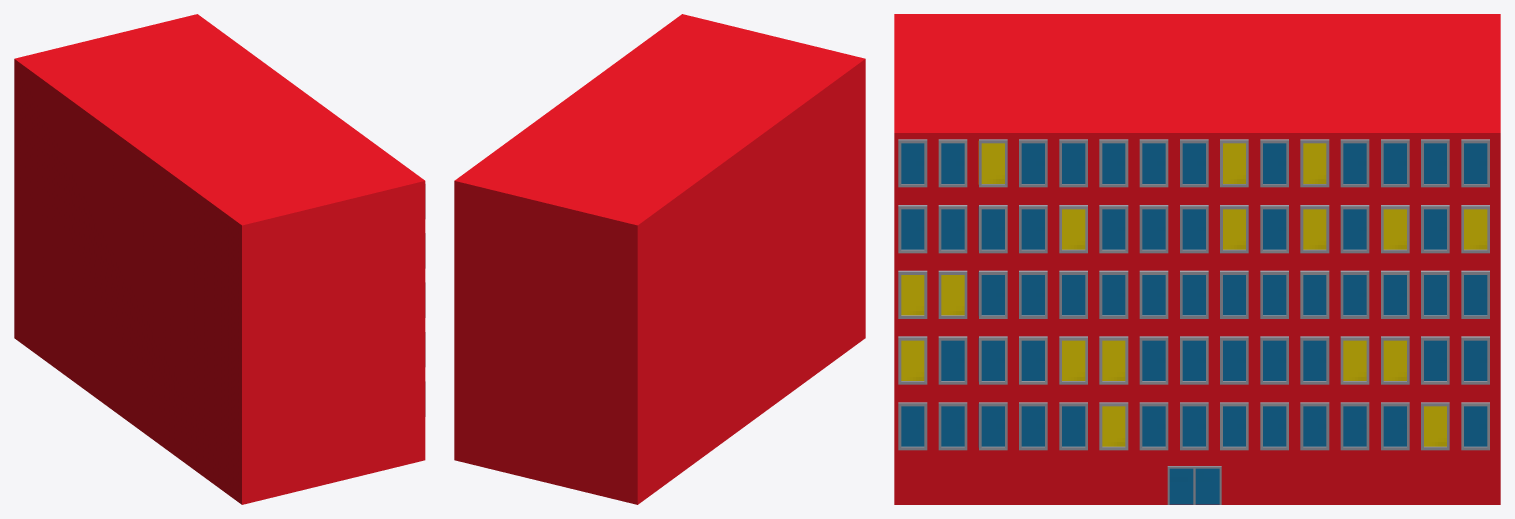
The model's file is wide_building.glb.
3 renders of one model, left to right at view 1: azimuth 30°, elevation 25°; view 2: azimuth 150°, elevation 25°; view 3: azimuth 270°, elevation 25°, orthographic. The views are drawn at different scales.
Visible parts, largest first — view 1: WideBuilding; view 2: WideBuilding; view 3: WideBuilding.
Part boxes in pixels (x1,y1,x2,y2): WideBuilding: [14, 14, 425, 504]; WideBuilding: [454, 14, 865, 504]; WideBuilding: [894, 14, 1500, 504].
Size of the model in its own units: 19.82 by 28.58 by 42.23.
4 materials, 4 textured.
